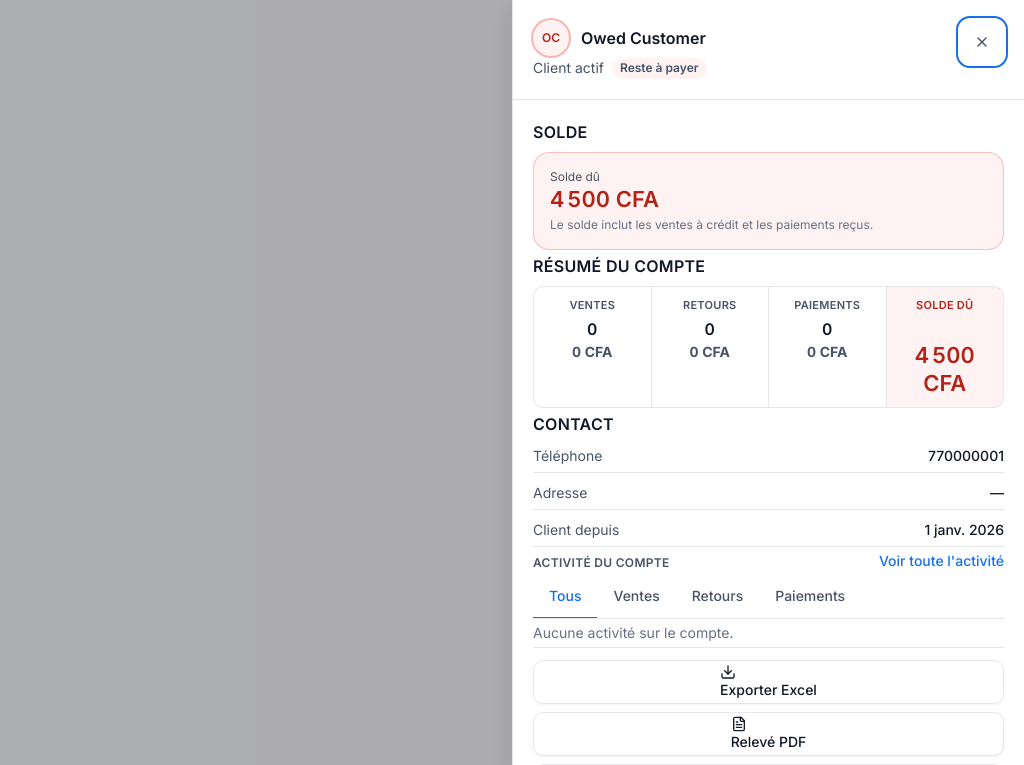
Scenario: CustomerDetailDrawer (15E) › shows filter-specific empty copy
Expected: the text "Aucune activité sur le compte." is shown, x1=533 y1=624 x2=734 y2=641
Click the tab "Ventes": x=637, y=597 x1=598 y1=575 x2=676 y2=619
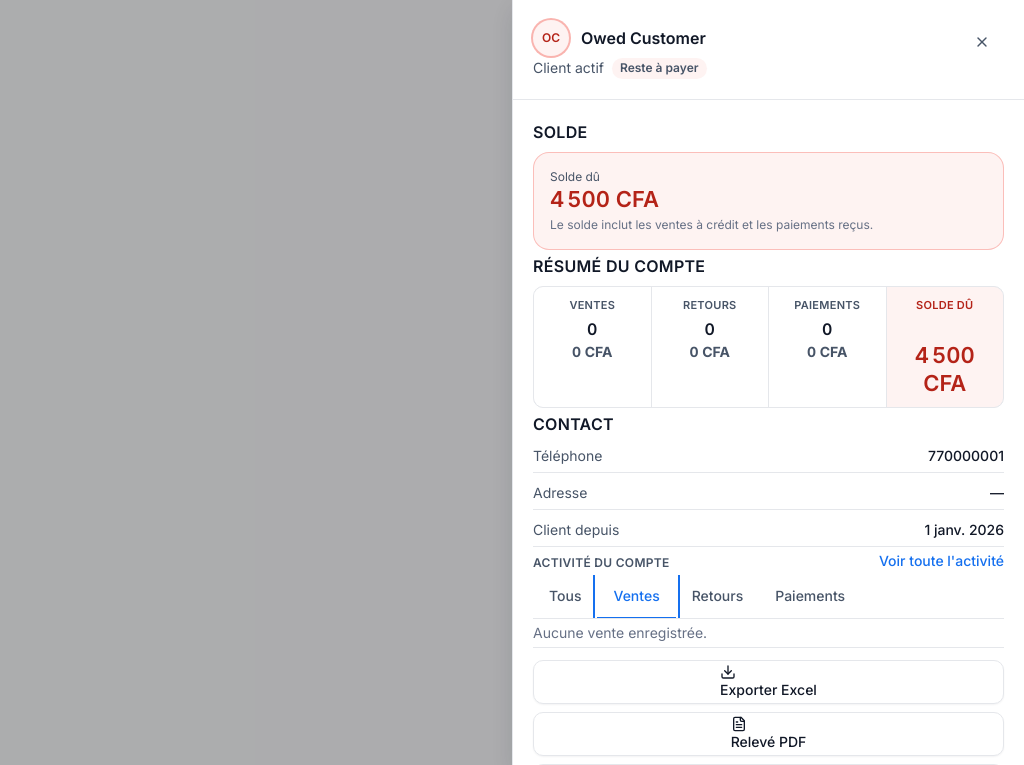
Expected: the text "Aucune vente enregistrée." is shown, x1=533 y1=624 x2=707 y2=641
Click the tab "Retours": x=718, y=597 x1=676 y1=575 x2=759 y2=619
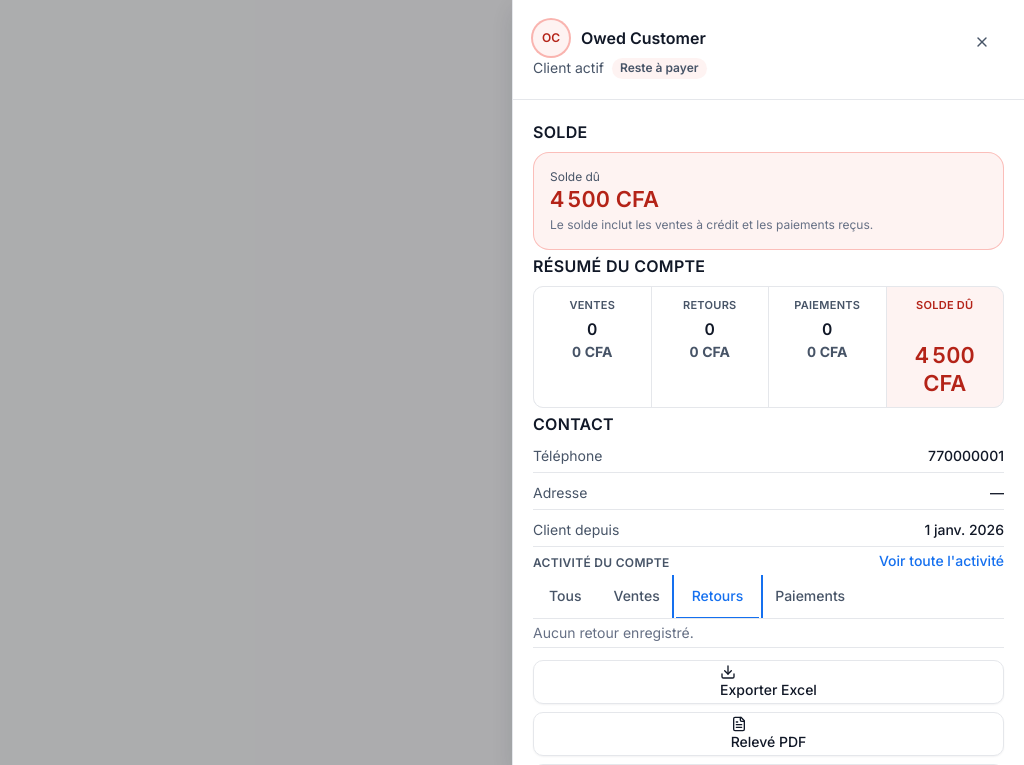
Expected: the text "Aucun retour enregistré." is shown, x1=533 y1=624 x2=694 y2=641
Click the tab "Paiements": x=810, y=597 x1=759 y1=575 x2=861 y2=619
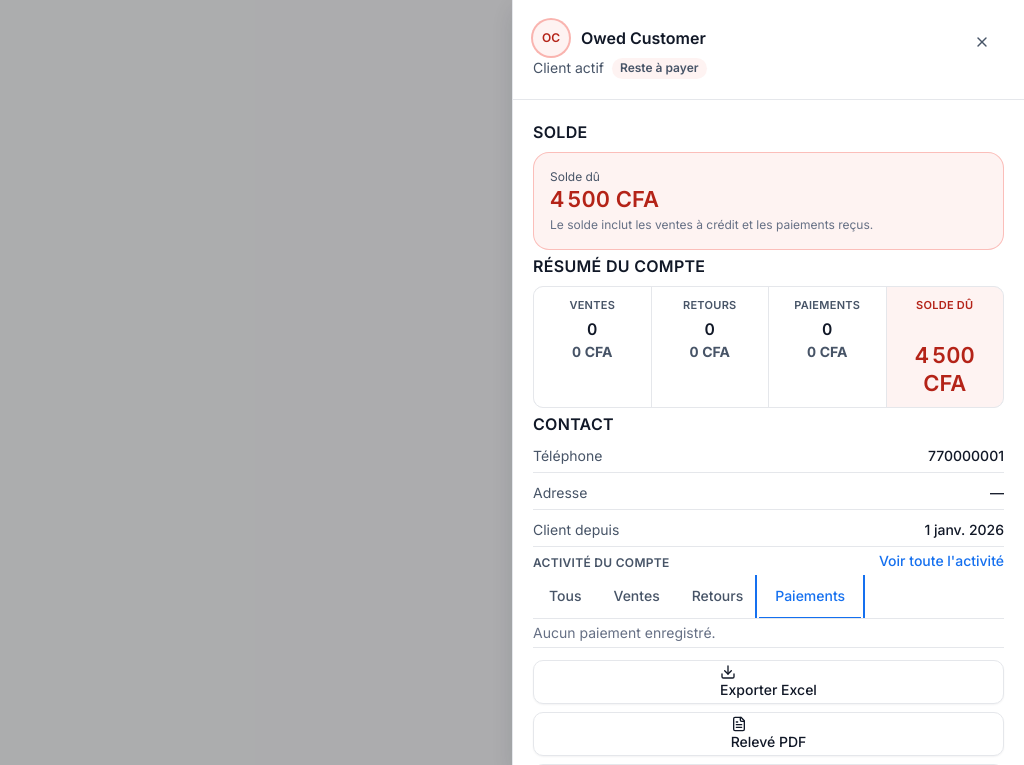
Expected: the text "Aucun paiement enregistré." is shown, x1=533 y1=624 x2=716 y2=641
